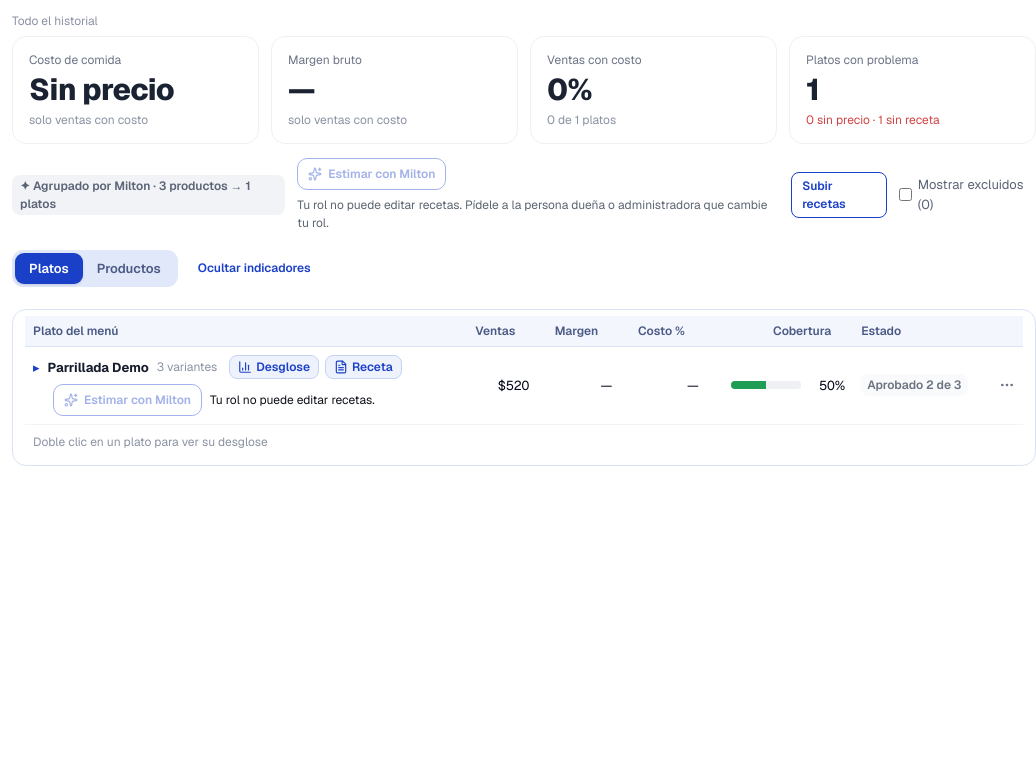
Test: MenuDishesScreen · size rows open into products › a Borrador product of another size uses the best approved sibling of that size
Click the button named "Ver variantes" at (36, 367), box [33, 358, 40, 377]
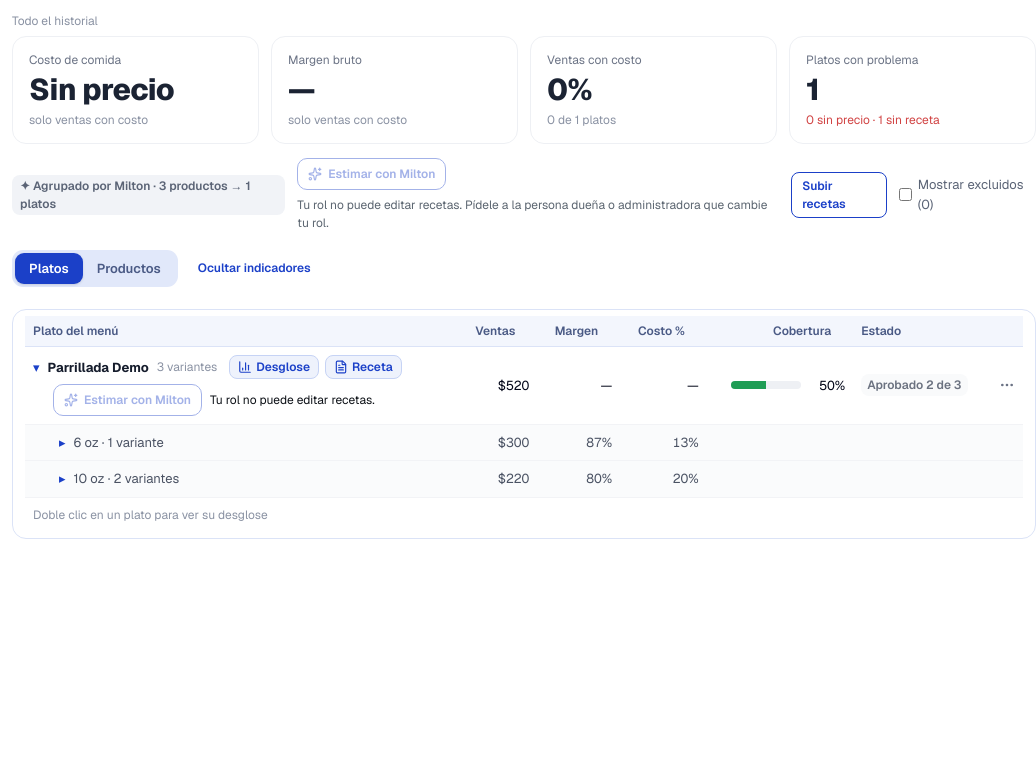
Click the button "▸" next to "10 oz" at (62, 479), box [59, 469, 66, 488]
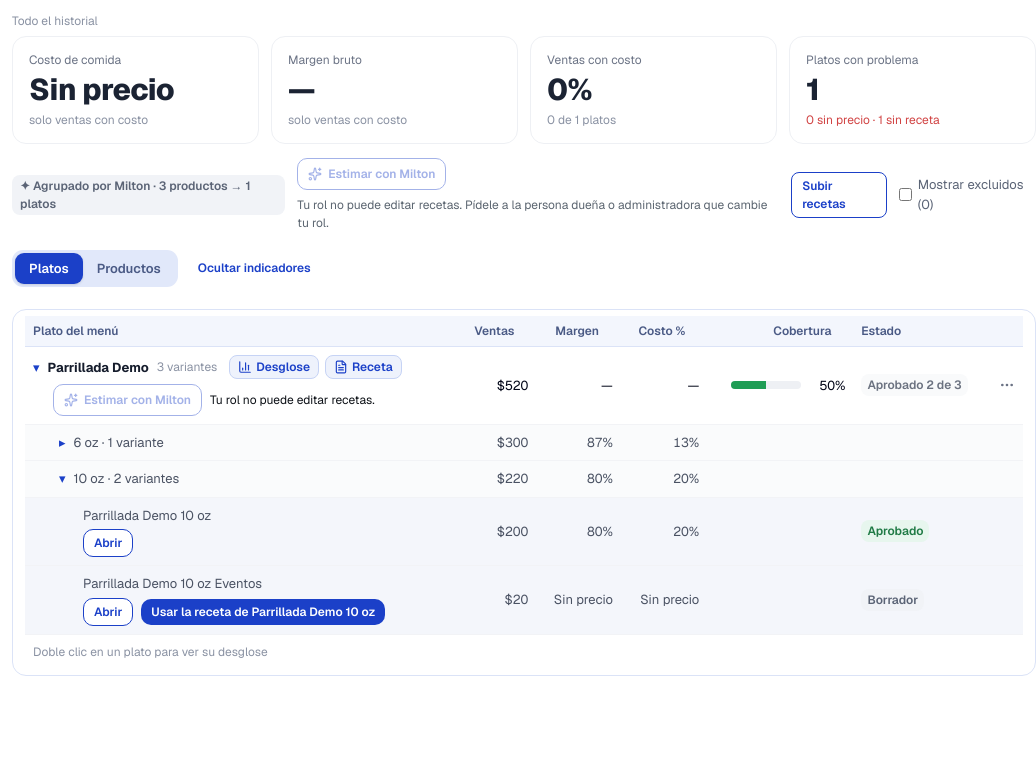
Now the button "Usar la receta de Parrillada Demo 10 oz" is shown, box [141, 598, 385, 624]
